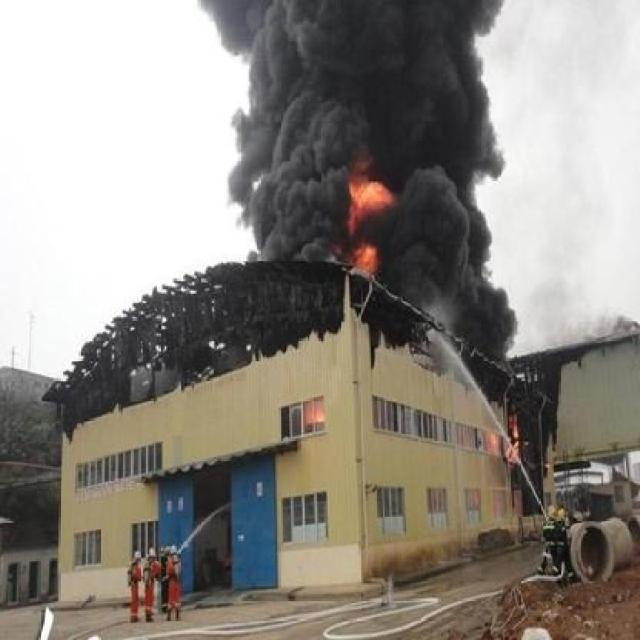Fire: (345, 153, 396, 284), (483, 411, 528, 466), (310, 398, 329, 424)
Smoke: (198, 0, 344, 260), (344, 0, 512, 151), (398, 152, 522, 354)
